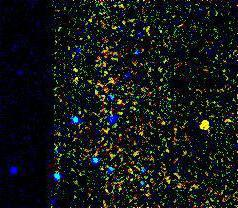star: (188, 112, 218, 142)
